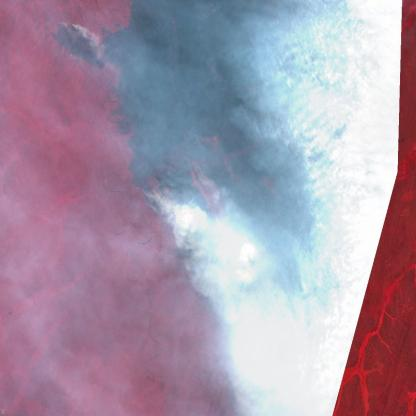fire: (48, 0, 399, 411)
